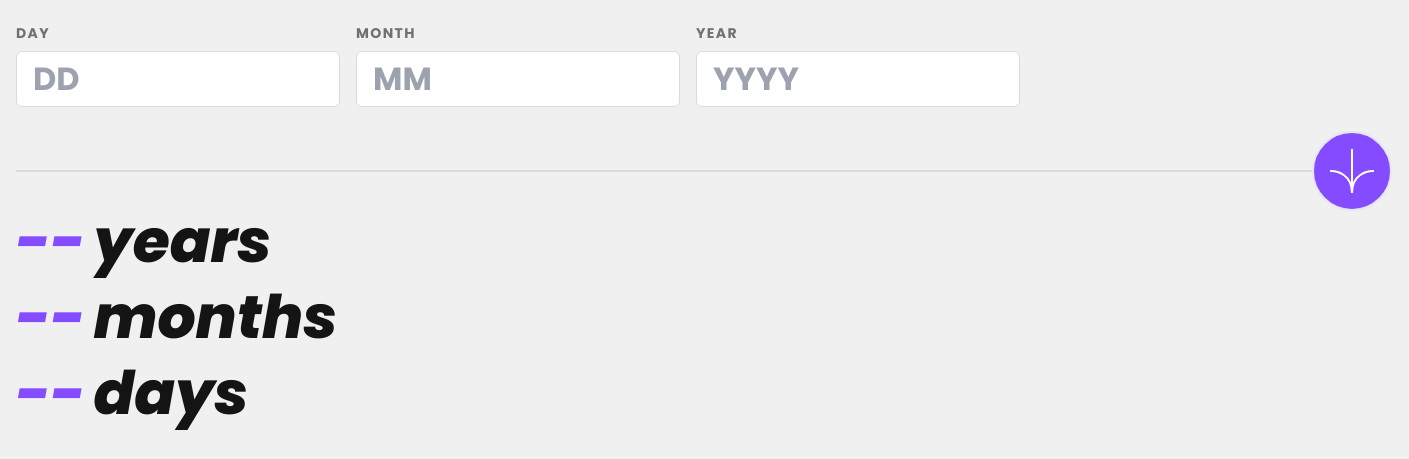
Scenario: AgeCalculatorForm › shows error message for invalid date
// Invalid day and submit
Type "31" into the field with placeholder "DD" at point(178, 79), box left=16, top=51, right=340, bottom=107
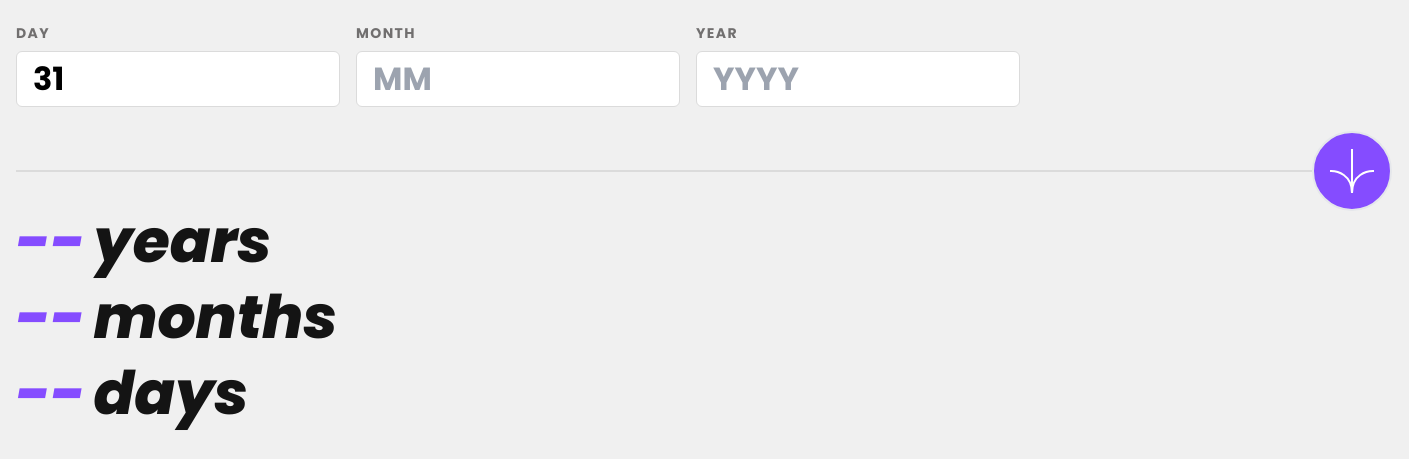
Type "04" into the field with placeholder "MM" at point(518, 79), box left=356, top=51, right=680, bottom=107
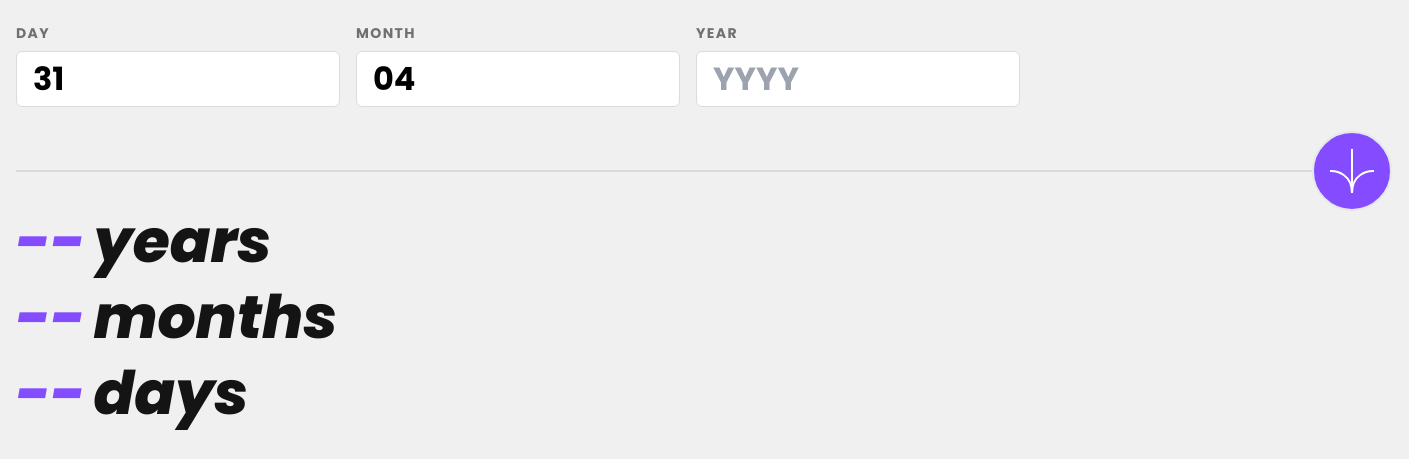
Type "1991" into the field with placeholder "YYYY" at point(858, 79), box left=696, top=51, right=1020, bottom=107
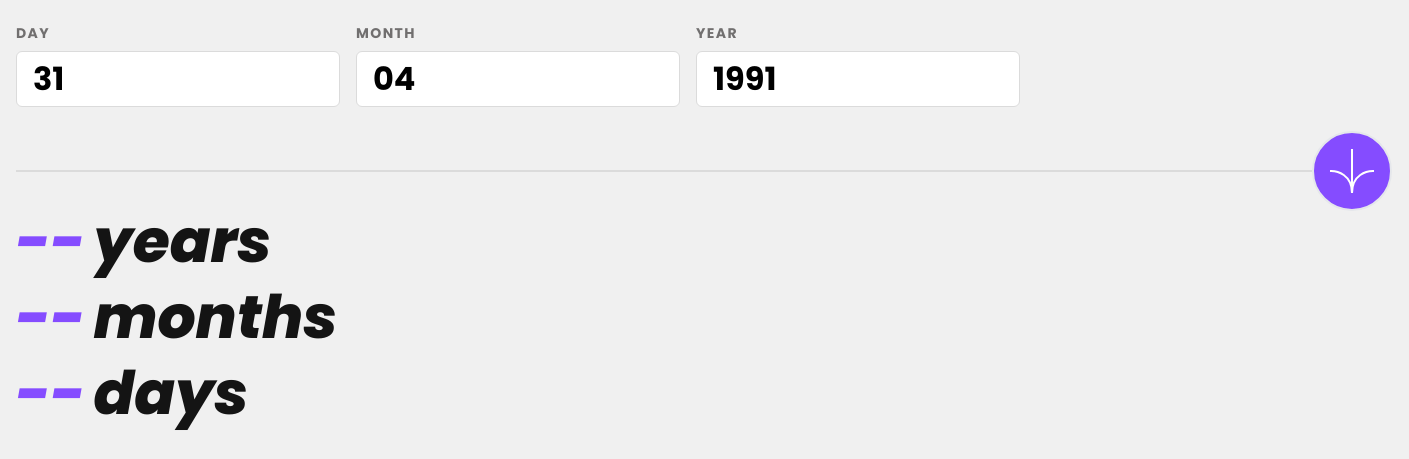
Click the button at point(1352, 171), box left=1312, top=131, right=1392, bottom=211
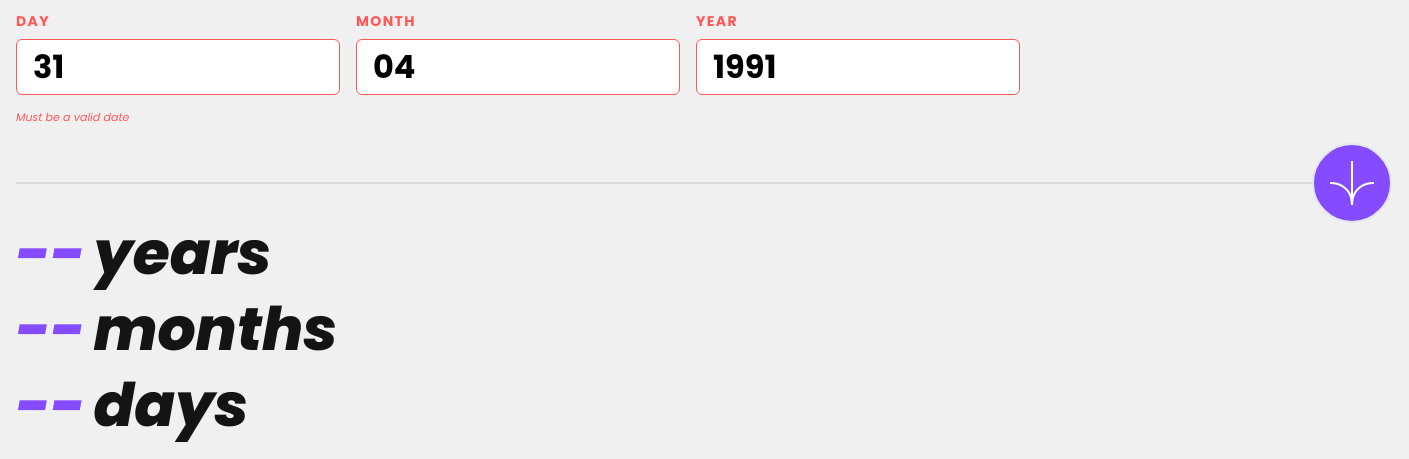
Result: the text "Must be a valid date" is shown at left=16, top=109, right=129, bottom=125
